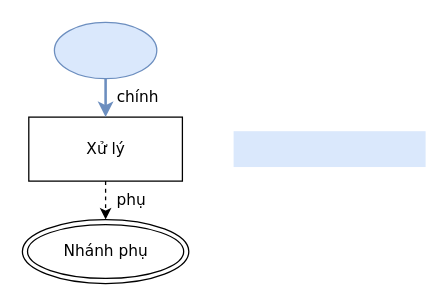
This 448x306 diagram has some shape labels left out. The shapes that lost their labels are listed below. From the top down, each one's box as (x1, y1, x2, y2) in pixels, then its label:
(53, 21, 157, 79): Vào
(233, 131, 425, 166): Ghi chú được tô nhấn
